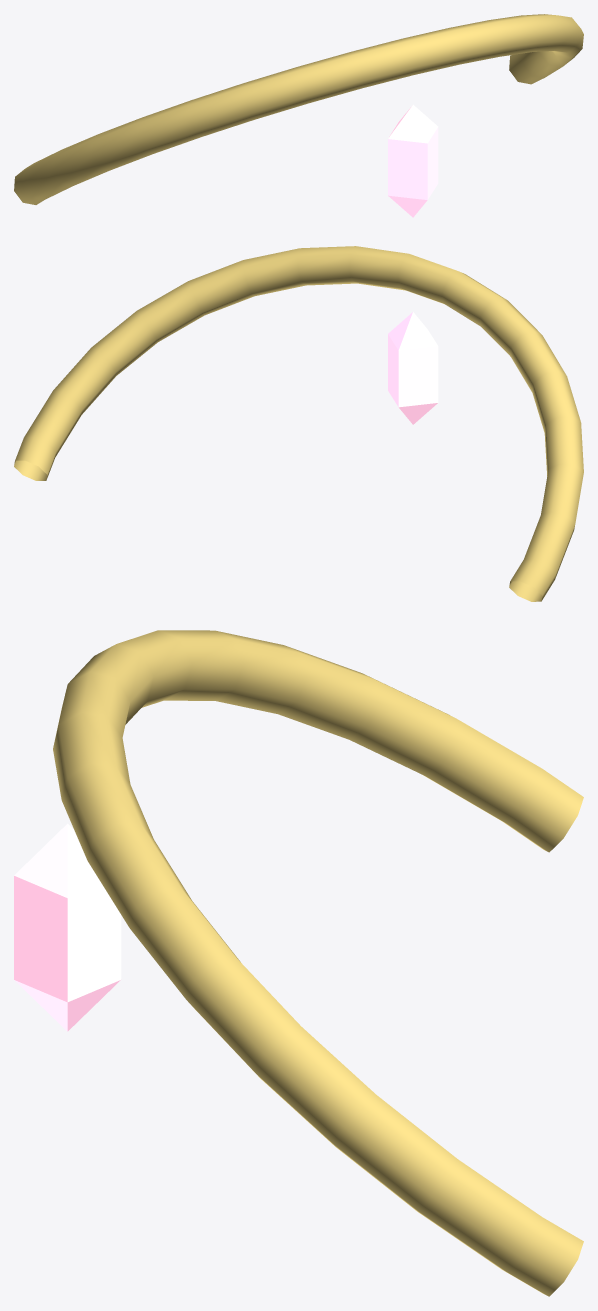
Rendered from tiara.glb.
3 renders of one model, top to bottom at view 1: azimuth 30°, elevation 25°; view 2: azimuth 150°, elevation 25°; view 3: azimuth 270°, elevation 25°, orthographic. The views are drawn at different scales.
Parts seen in each view (by area): view 1: tiara; view 2: tiara; view 3: tiara.
Part boxes in pixels (x1=…): tiara: x1=14, y1=14, x2=583, y2=217; tiara: x1=14, y1=246, x2=583, y2=601; tiara: x1=14, y1=630, x2=583, y2=1296.
Bounding box in the file's own units: 0.448 × 0.1572 × 0.2256.
